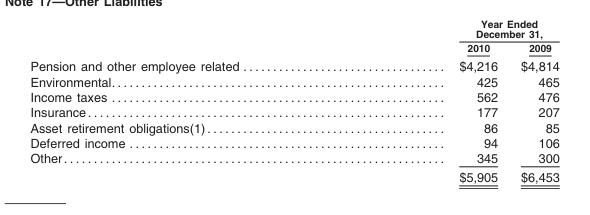table: (29, 29, 558, 183)
table column: (29, 29, 348, 183), (348, 29, 508, 183), (508, 29, 558, 183)
table column header: (29, 29, 558, 57)
table row: (29, 150, 558, 168), (29, 57, 558, 74), (29, 41, 558, 57), (29, 89, 558, 105), (29, 74, 558, 89), (29, 105, 558, 120), (29, 120, 558, 135), (29, 135, 558, 150), (29, 168, 558, 183), (29, 29, 558, 41)
table spanning cell: (348, 29, 558, 41)
